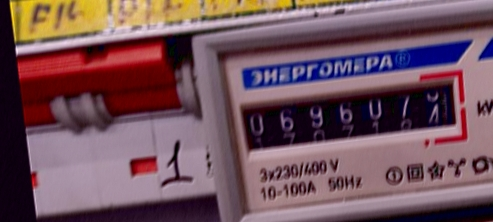0: (246, 110, 266, 136), (365, 93, 383, 120)
4: (423, 101, 442, 127)
6: (276, 106, 296, 132), (335, 98, 355, 124)
7: (395, 92, 413, 119)
9: (306, 102, 324, 128)
screen: (224, 63, 474, 166)
